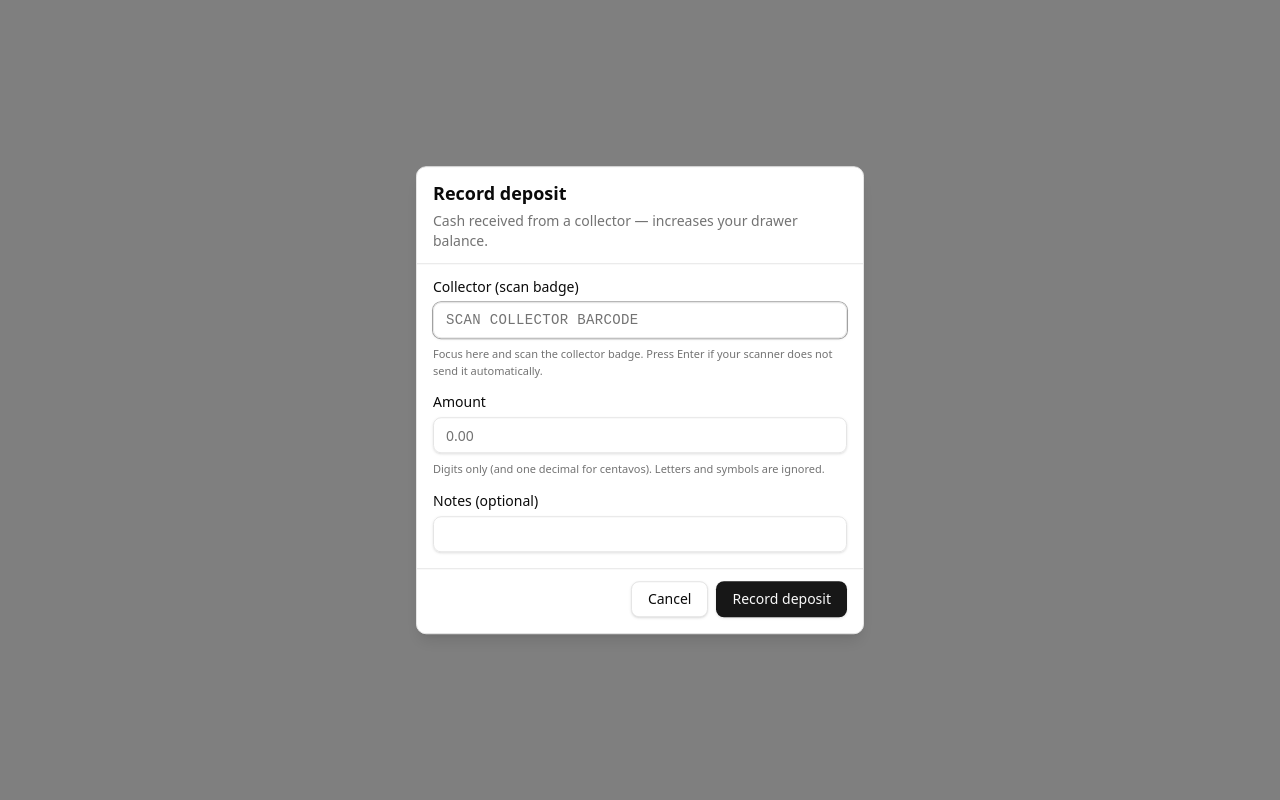
Test: TellerCashTransactionDialog › strips non-numeric characters from amount
Type "rejgher123" into the field labelled "Amount". click: [640, 435]
box: [433,417,847,453]
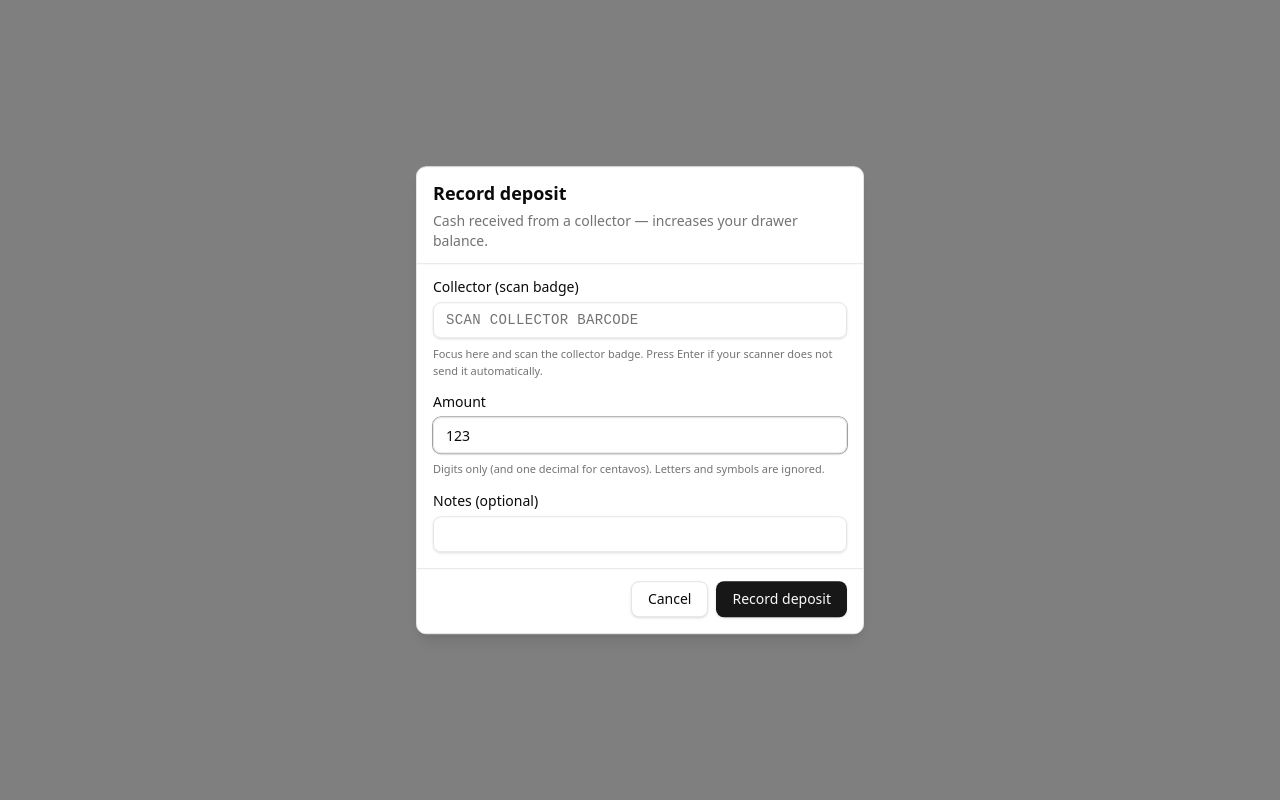
Now the field labelled "Amount" holds "123", box [433,417,847,453]
